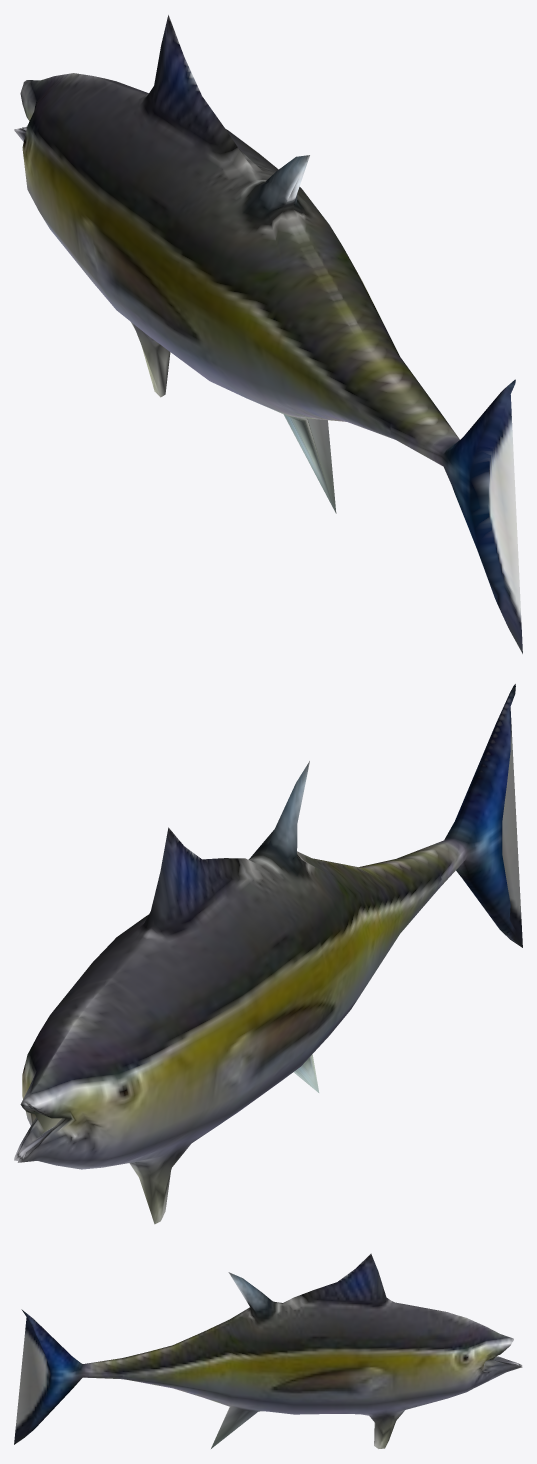
The model's file is Complicatefish.fbx.
3 renders of one model, top to bottom at view 1: azimuth 30°, elevation 25°; view 2: azimuth 150°, elevation 25°; view 3: azimuth 270°, elevation 25°, orthographic. The views are drawn at different scales.
Visible parts, largest first — view 1: pSphere1; view 2: pSphere1; view 3: pSphere1.
Boxes of the visible parts, x1,y1,x2,y2 form: pSphere1: [14, 15, 522, 653]; pSphere1: [14, 684, 522, 1224]; pSphere1: [14, 1253, 522, 1448].
Bounding box in the file's own units: 0.5132 × 1.21 × 2.85.
Materials: 1 (1 with a texture image).
